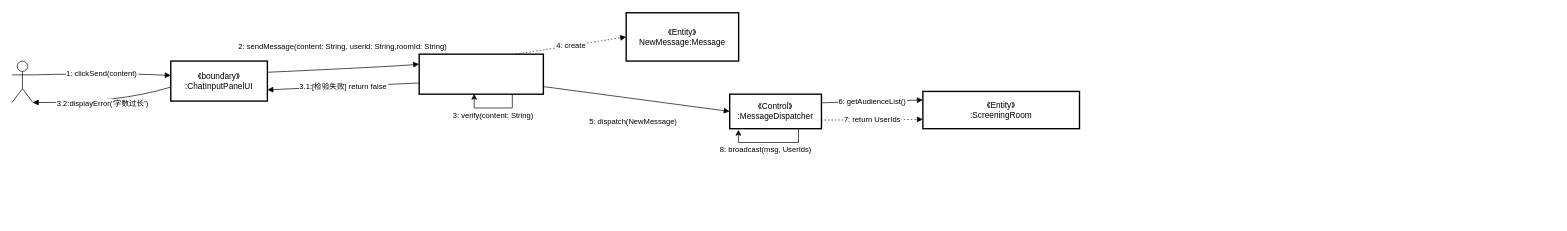
Image size: 1567x231. Some labels were removed from this diagram. Each missing label, with the centre of its shape:
《Control》 :MessageHandler: pixel 481 74
观众: pixel 22 81
